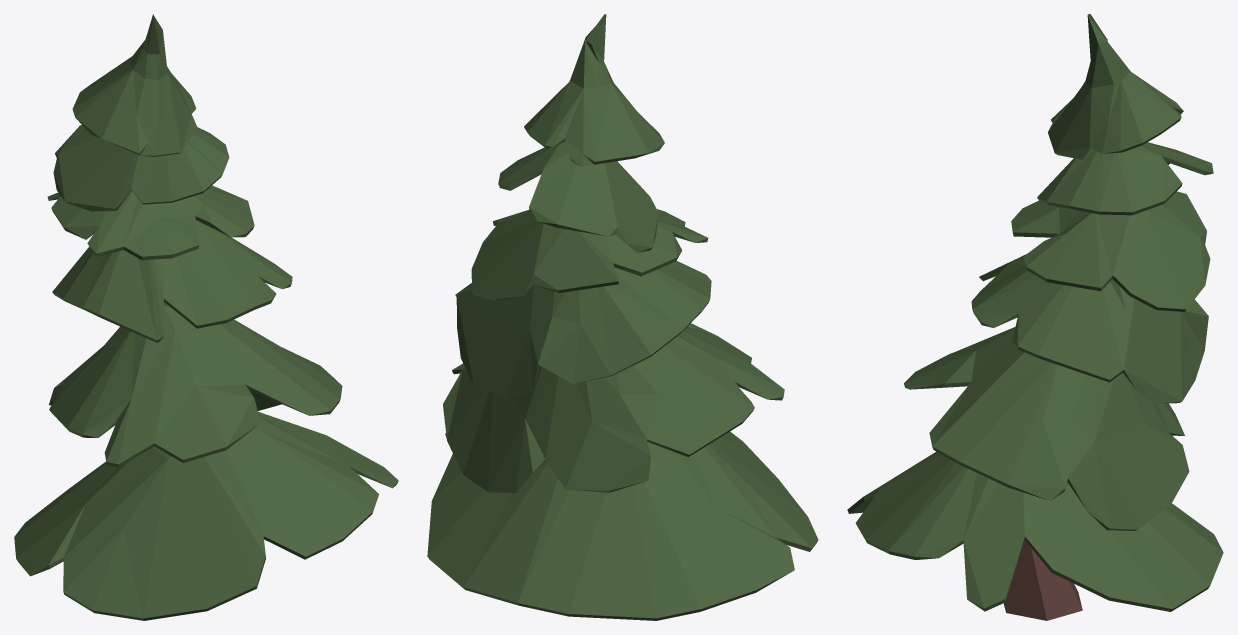
Rendered from PineTree_3.glb.
3 views of the same model, side by side, from view 1: azimuth 30°, elevation 25°; view 2: azimuth 150°, elevation 25°; view 3: azimuth 270°, elevation 25° (orthographic). The views are drawn at different scales.
Parts seen in each view (by area): view 1: PineTree_3; view 2: PineTree_3; view 3: PineTree_3.
Part boxes in pixels (x1,y1,x2,y2): PineTree_3: [14, 14, 398, 620]; PineTree_3: [427, 14, 818, 620]; PineTree_3: [847, 14, 1223, 620].
Bounding box in the file's own units: 2.15 × 3.3 × 1.95.
